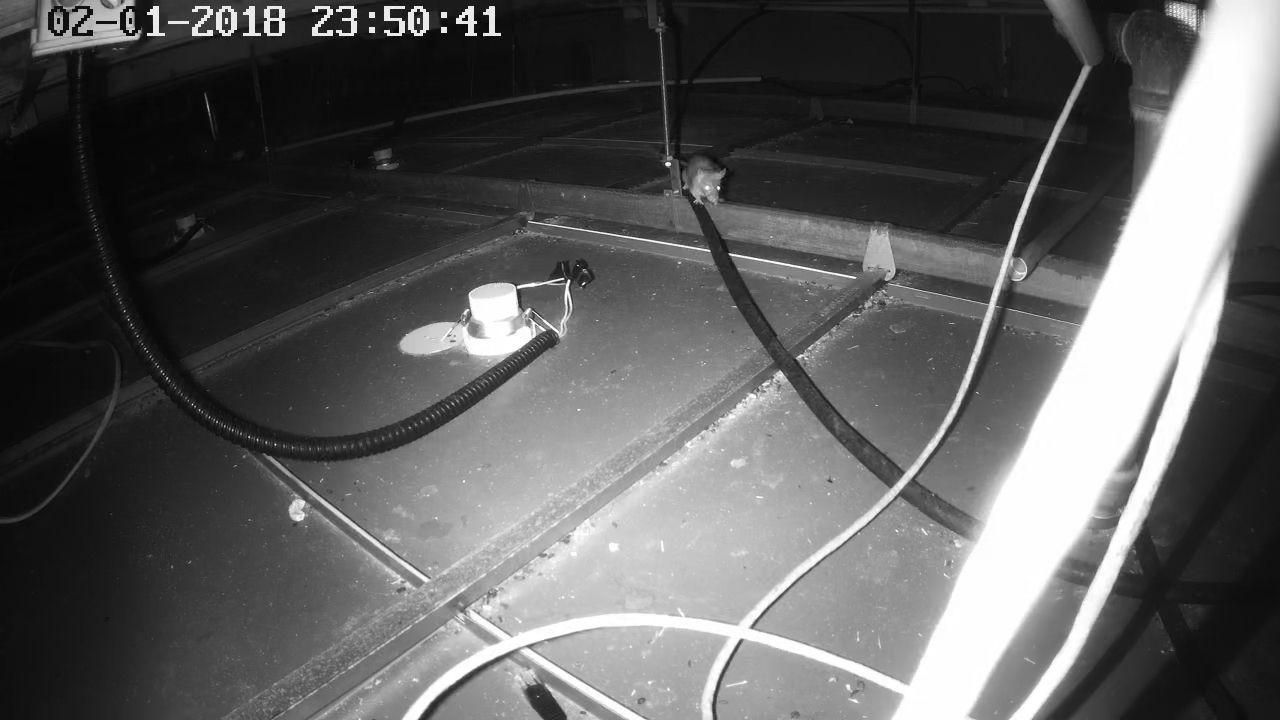rat: (671, 139, 728, 210)
